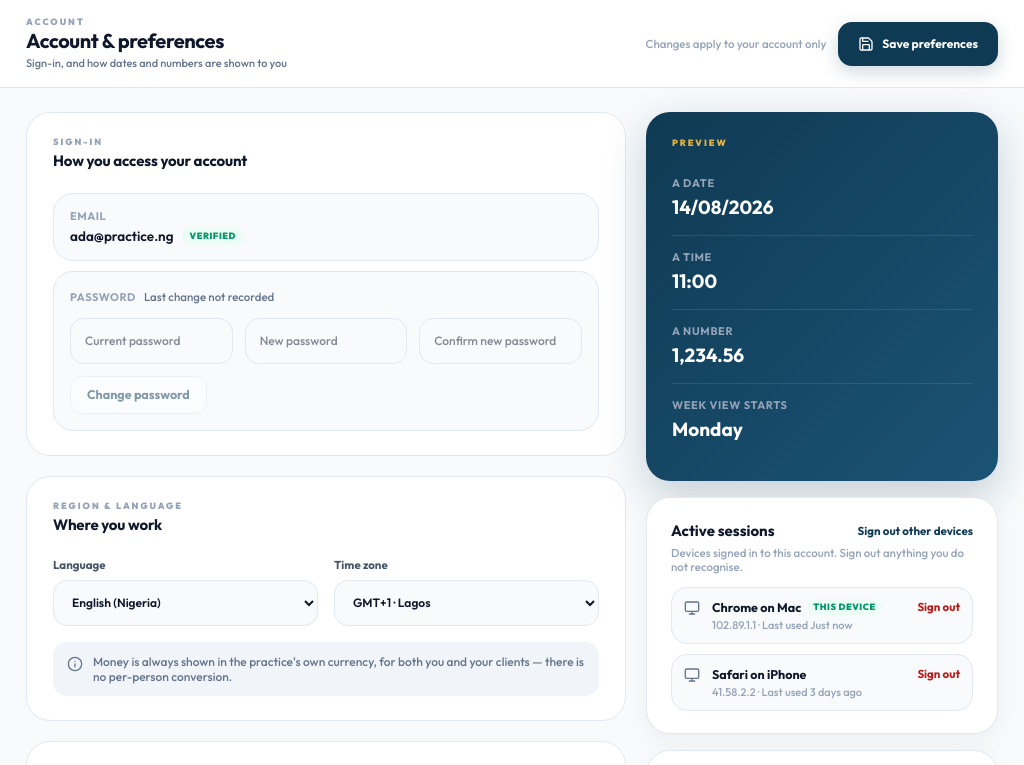
Test: active sessions › reports a failed sign-out instead of dropping the row from the list
Expected: the text "ada@practice.ng" is shown, x1=70 y1=226 x2=174 y2=246
Click the button with aria-label "Sign out Safari on iPhone" at (939, 674), box x1=917 y1=665 x2=960 y2=682
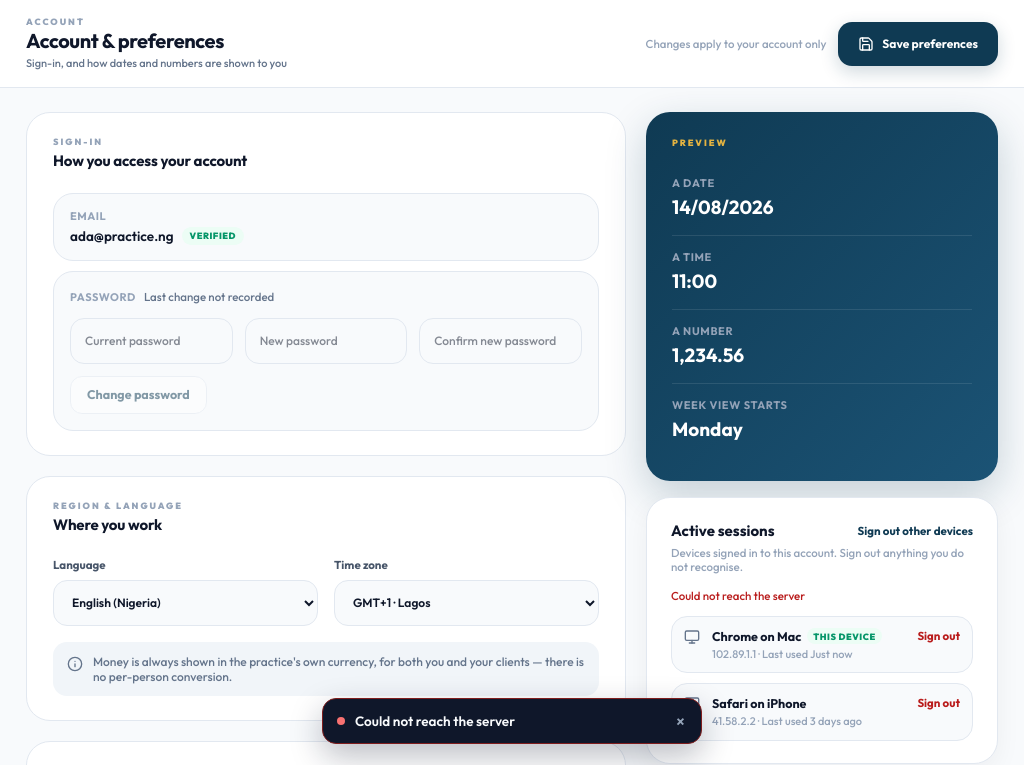
Expected: the text "Safari on iPhone" is shown, x1=712 y1=694 x2=806 y2=713
Expected: the text "Could not reach the server" is shown, x1=671 y1=588 x2=805 y2=603
